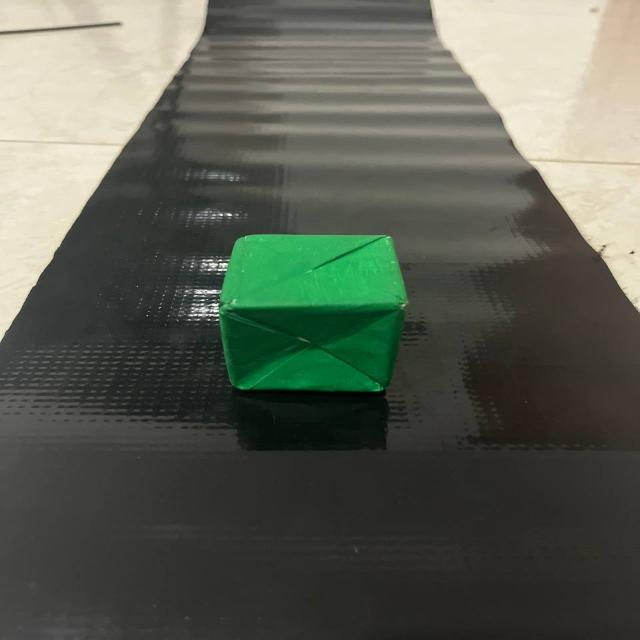Verde: (202, 220, 420, 416)
